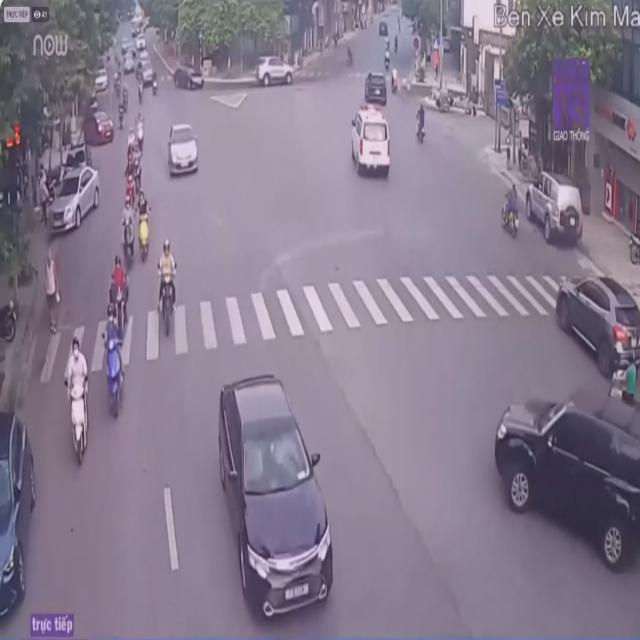car: (220, 377, 332, 624), (494, 385, 640, 570), (555, 268, 640, 380), (1, 414, 36, 625), (526, 171, 582, 247), (349, 108, 393, 185), (49, 167, 100, 229), (168, 121, 200, 178), (256, 50, 292, 88), (362, 69, 388, 105)
motorbike: (63, 336, 90, 464), (101, 305, 126, 416), (156, 240, 180, 327), (108, 257, 130, 334), (606, 356, 640, 404), (135, 190, 152, 264), (120, 186, 136, 264), (502, 183, 523, 242), (416, 96, 430, 145)
